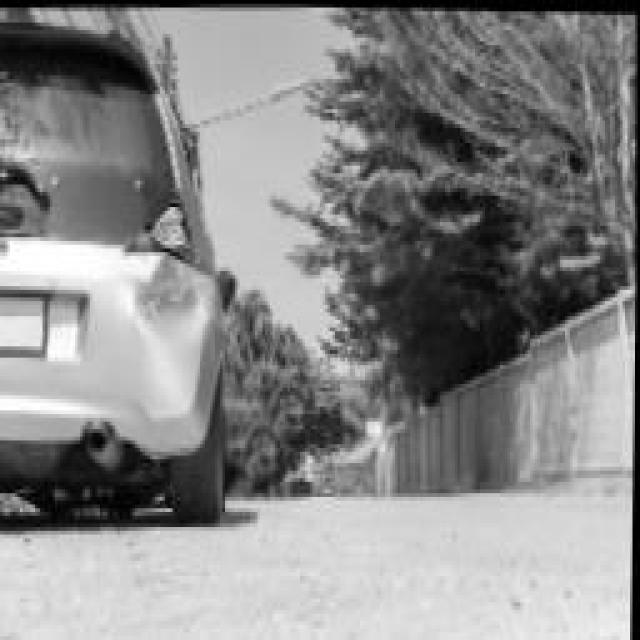Bumper: (118, 264, 214, 427)
